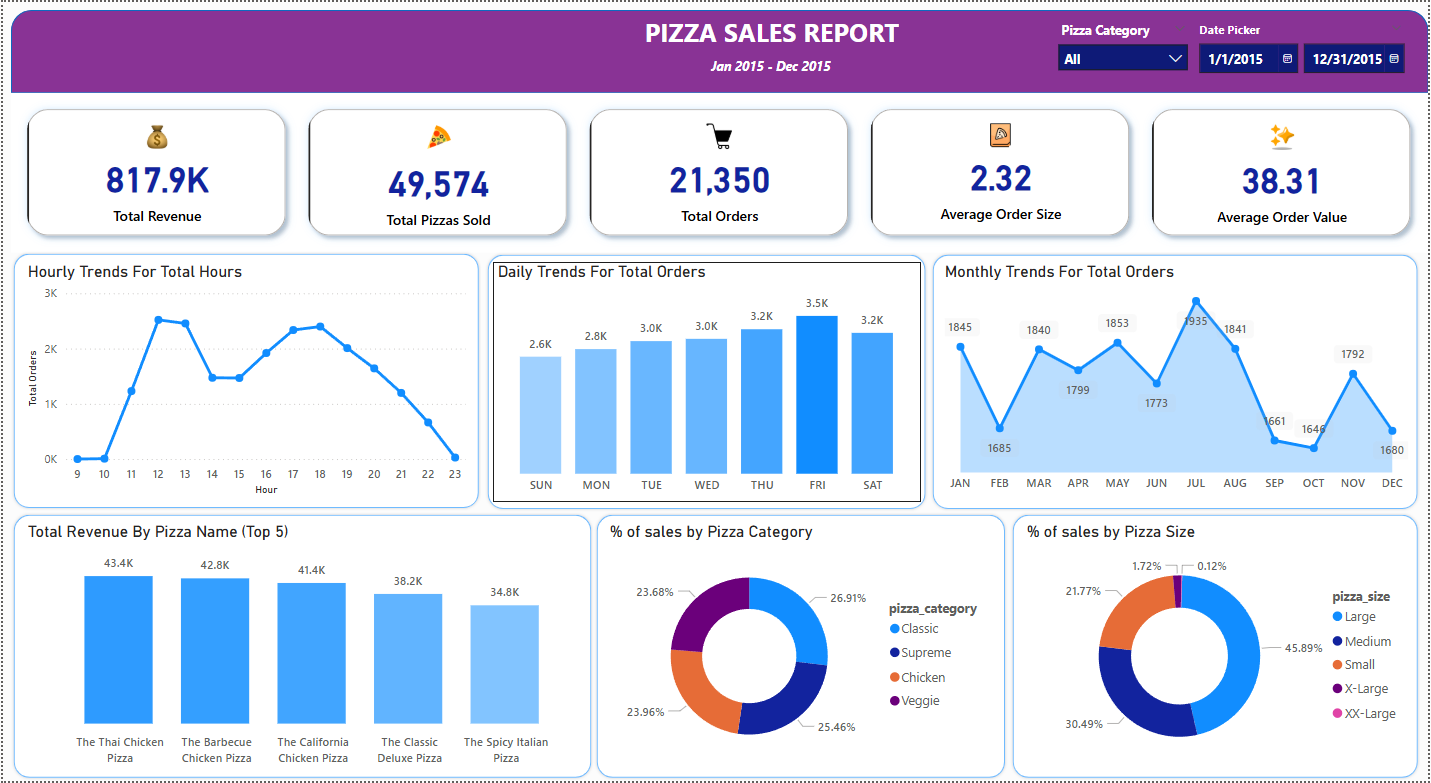

This screenshot's page, from the dashboard's own definition file:
{"tool":"powerbi","page":{"name":"Page 1","canvas":[1500,820],"ordinal":0},"visuals":[{"type":"cardVisual","fields":{"Data":["pizza_sales.Total Revenue","pizza_sales.Total Pizzas Sold","pizza_sales.Total Orders","pizza_sales.Average Order Size","pizza_sales.AOV"]},"box":[8,95.4,1492,167.8],"z":0},{"type":"shape","box":[8,8,1492,87.4],"z":1000},{"type":"textbox","box":[670.1,8,296.6,52.9],"z":2000},{"type":"textbox","box":[740.2,54,156.3,33.3],"z":3000},{"type":"shape","box":[506.9,263.2,466.7,273.6],"z":4000},{"type":"columnChart","title":"Daily Trends For Total Orders","fields":{"Category":["pizza_sales.Day Name"],"Y":["pizza_sales.Total Orders"]},"box":[516.1,273.6,450.6,252.9],"z":5000},{"type":"shape","box":[975.9,263.2,516.1,273.6],"z":6000},{"type":"areaChart","title":"Monthly Trends For Total Orders","fields":{"Category":["pizza_sales.Order Month"],"Y":["pizza_sales.Total Orders"]},"box":[986.2,273.6,497.7,250.6],"z":7000},{"type":"shape","box":[621.8,536.8,435.6,282.8],"z":8000},{"type":"shape","box":[1059.8,536.8,432.2,282.8],"z":9000},{"type":"donutChart","title":"% of sales by Pizza Category","fields":{"Category":["pizza_sales.pizza_category"],"Y":["pizza_sales.Total Revenue"]},"box":[633.3,547.1,412.6,263.2],"z":10000},{"type":"donutChart","title":"% of sales by Pizza Size","fields":{"Category":["pizza_sales.pizza_size"],"Y":["pizza_sales.Total Revenue"]},"box":[1072.4,547.1,411.5,263.2],"z":11000},{"type":"shape","box":[8,536.8,613.8,282.8],"z":12000},{"type":"columnChart","title":"Total Revenue By Pizza  Name (Top 5)","fields":{"Category":["pizza_sales.pizza_name"],"Y":["pizza_sales.Total Revenue"]},"box":[20.7,547.1,592,263.2],"z":13000},{"type":"shape","box":[8,262.1,495.4,273.6],"z":14000},{"type":"lineChart","title":"Hourly Trends For Total Hours","fields":{"Category":["pizza_sales.Hour"],"Y":["pizza_sales.Total Orders"]},"box":[20.7,273.6,471.3,250.6],"z":15000},{"type":"slicer","fields":{"Values":["pizza_sales.pizza_category"]},"box":[1101.1,15.6,155.6,58.9],"z":16000},{"type":"slicer","fields":{"Values":["pizza_sales.order_date"]},"box":[1246.7,15.6,237.8,58.9],"z":17000}]}

Visuals, with their boxes in screenshot pixels (x1, y1, x2, y2), scaled from the page's 1500x820 canvas onto the 1431x783 screenshot:
cardVisual - pizza_sales.Total Revenue x pizza_sales.Total Pizzas Sold: <bbox>8, 91, 1430, 251</bbox>
shape: <bbox>8, 8, 1430, 91</bbox>
textbox: <bbox>639, 8, 922, 58</bbox>
textbox: <bbox>706, 52, 855, 83</bbox>
shape: <bbox>484, 251, 929, 513</bbox>
"Daily Trends For Total Orders" columnChart: <bbox>492, 261, 922, 503</bbox>
shape: <bbox>931, 251, 1423, 513</bbox>
"Monthly Trends For Total Orders" areaChart: <bbox>941, 261, 1416, 501</bbox>
shape: <bbox>593, 513, 1009, 782</bbox>
shape: <bbox>1011, 513, 1423, 782</bbox>
"% of sales by Pizza Category" donutChart: <bbox>604, 522, 998, 774</bbox>
"% of sales by Pizza Size" donutChart: <bbox>1023, 522, 1416, 774</bbox>
shape: <bbox>8, 513, 593, 782</bbox>
"Total Revenue By Pizza  Name (Top 5)" columnChart: <bbox>20, 522, 585, 774</bbox>
shape: <bbox>8, 250, 480, 512</bbox>
"Hourly Trends For Total Hours" lineChart: <bbox>20, 261, 469, 501</bbox>
slicer - pizza_sales.pizza_category: <bbox>1050, 15, 1199, 71</bbox>
slicer - pizza_sales.order_date: <bbox>1189, 15, 1416, 71</bbox>
